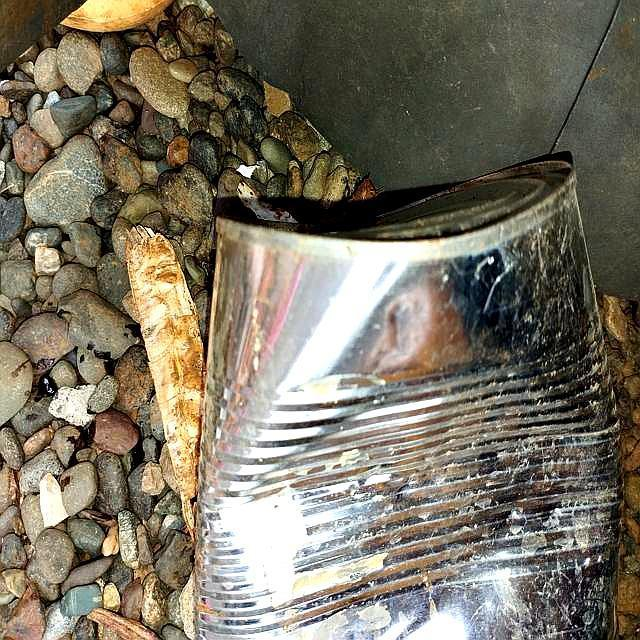Non-biodegradable: (191, 153, 624, 639)
